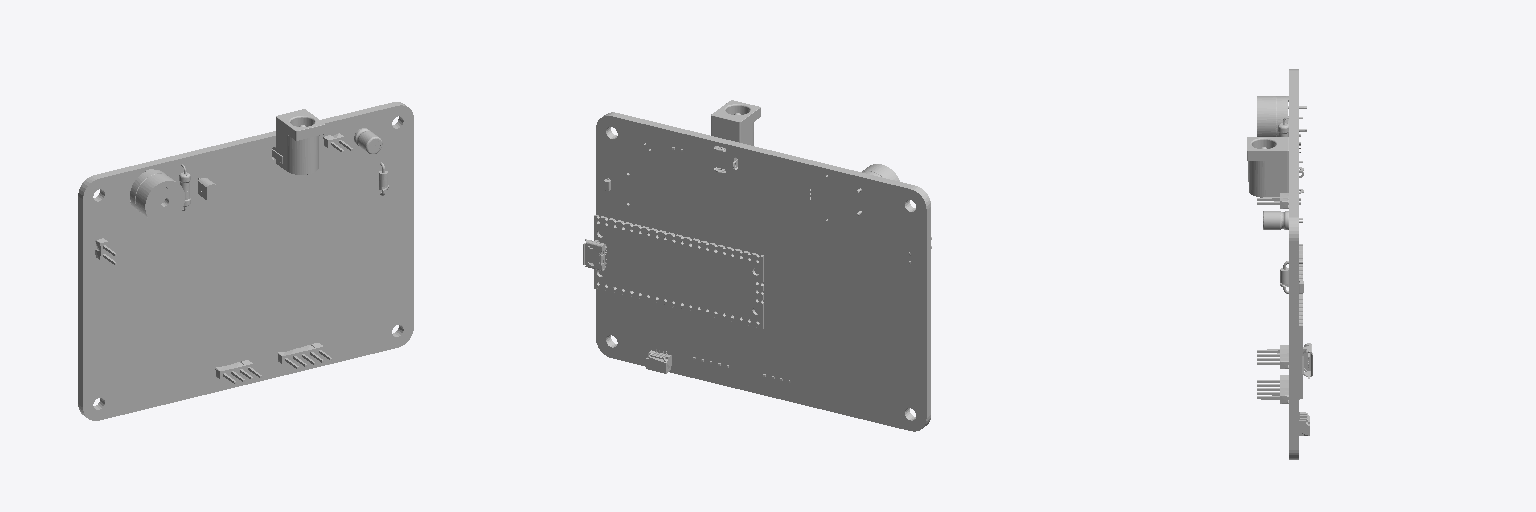
File: OBJ_PCB_RPi Pico W Breakout.obj
The picture shows the model from 3 angles: view 1: azimuth 30°, elevation 25°; view 2: azimuth 150°, elevation 25°; view 3: azimuth 270°, elevation 25°; orthographic projection.
Size of the model in its own units: 399 by 297 by 68.71.